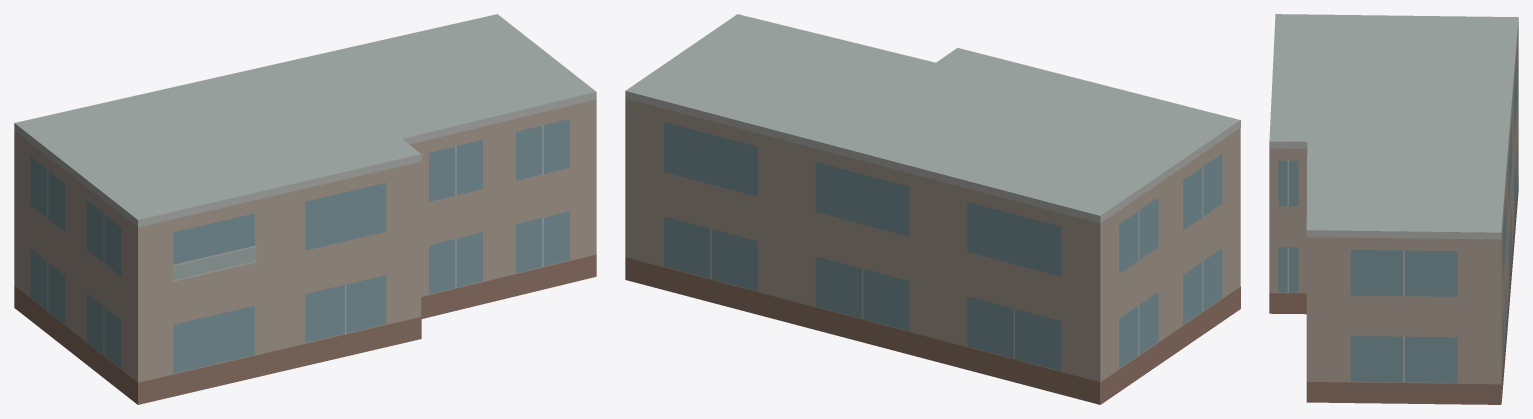
Rendered from survey-upis-32669952.glb.
The picture shows the model from 3 angles, left to right: view 1: azimuth 30°, elevation 25°; view 2: azimuth 150°, elevation 25°; view 3: azimuth 270°, elevation 25°; orthographic projection. The views are drawn at different scales.
Visible parts, largest first — view 1: survey-upis-32669952.tmp; view 2: survey-upis-32669952.tmp; view 3: survey-upis-32669952.tmp.
Part boxes in pixels (left/top/right/bottom): survey-upis-32669952.tmp: left=14, top=14, right=596, bottom=404; survey-upis-32669952.tmp: left=625, top=14, right=1240, bottom=404; survey-upis-32669952.tmp: left=1269, top=14, right=1518, bottom=404.
Size of the model in its own units: 16.62 by 6.1 by 8.01.
